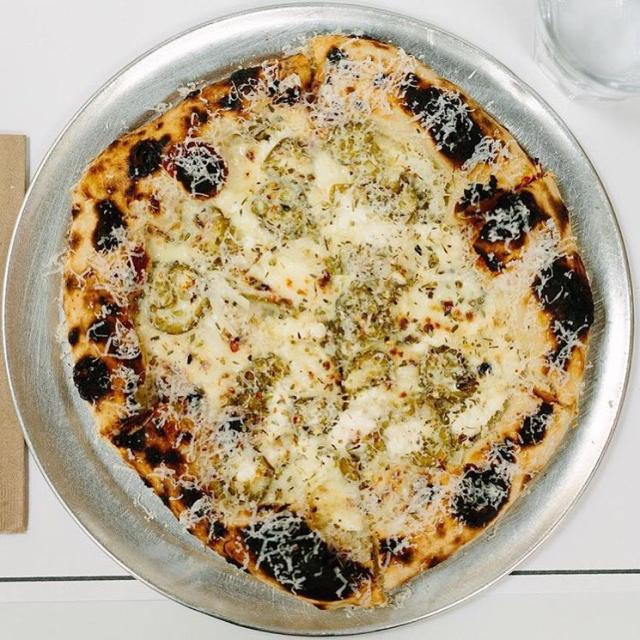pizza: (63, 34, 594, 608)
